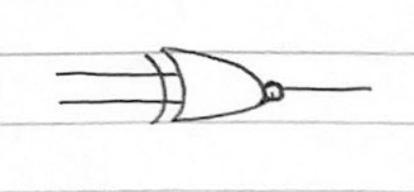XNOR: (137, 35, 302, 139)
